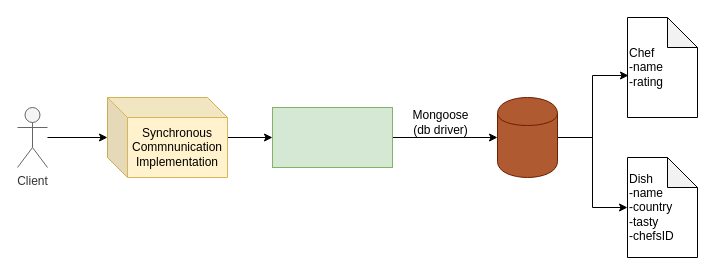
Some shapes in this 715 by 275 pixel diagram are drawn without their labels. Here are the shapes that lost their labels. From the top down, the centre of each, then its label:
At point 332,137: "node.js".
At point 527,137: "MongoDB".
